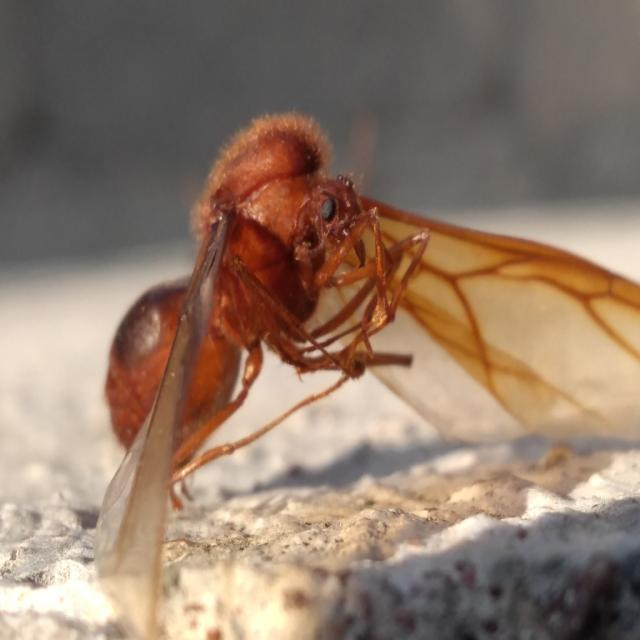Dead-Male-Alate: (92, 104, 640, 640)
